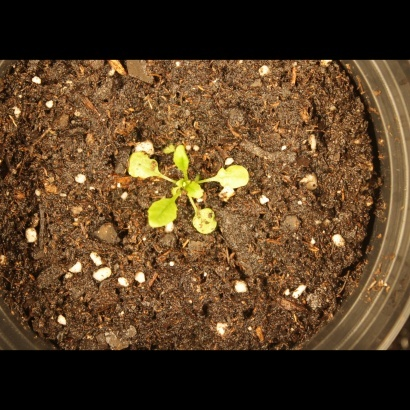leaf: (118, 141, 162, 184), (135, 191, 180, 233), (211, 161, 264, 192), (188, 202, 227, 241), (166, 138, 205, 174), (178, 179, 207, 203)
